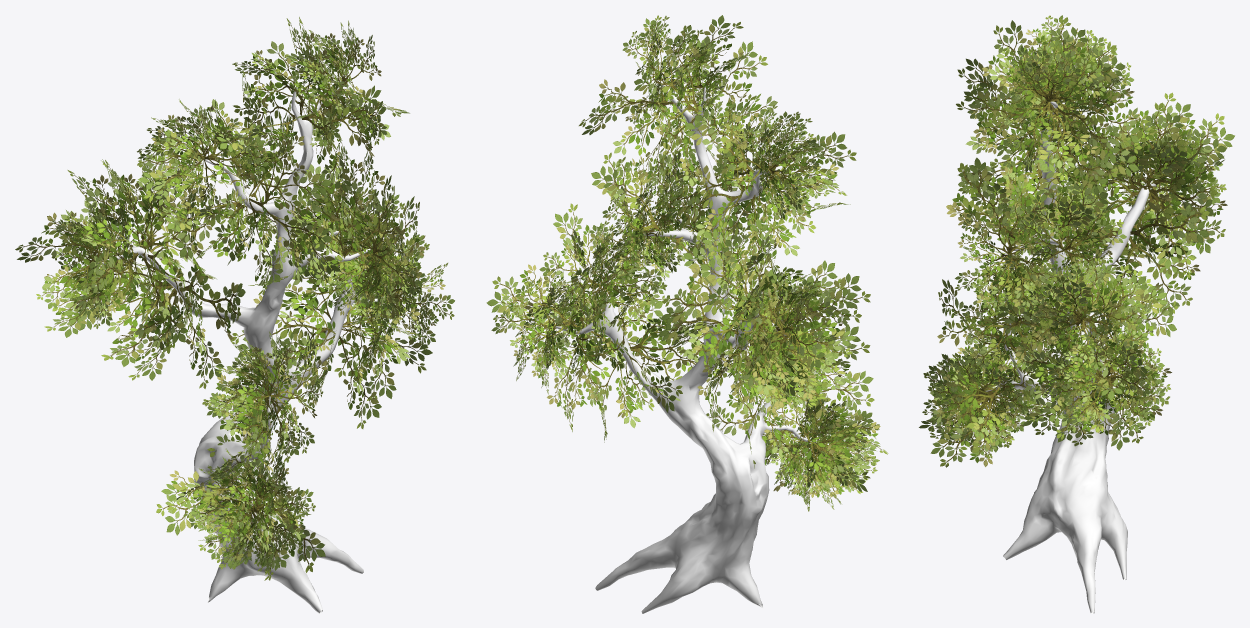
File: Tree_3_3.fbx
3 views of the same model, side by side, from view 1: azimuth 30°, elevation 25°; view 2: azimuth 150°, elevation 25°; view 3: azimuth 270°, elevation 25° (orthographic). The views are drawn at different scales.
Parts seen in each view (by area): view 1: Tree_3_3_LOD0; view 2: Tree_3_3_LOD0; view 3: Tree_3_3_LOD0.
Boxes of the visible parts, box(x1,y1,x2,y2) form: Tree_3_3_LOD0: box(15, 17, 454, 613); Tree_3_3_LOD0: box(486, 15, 888, 613); Tree_3_3_LOD0: box(919, 15, 1234, 613).
Size of what is drawn, in the model's own units: 632 by 913 by 468.
